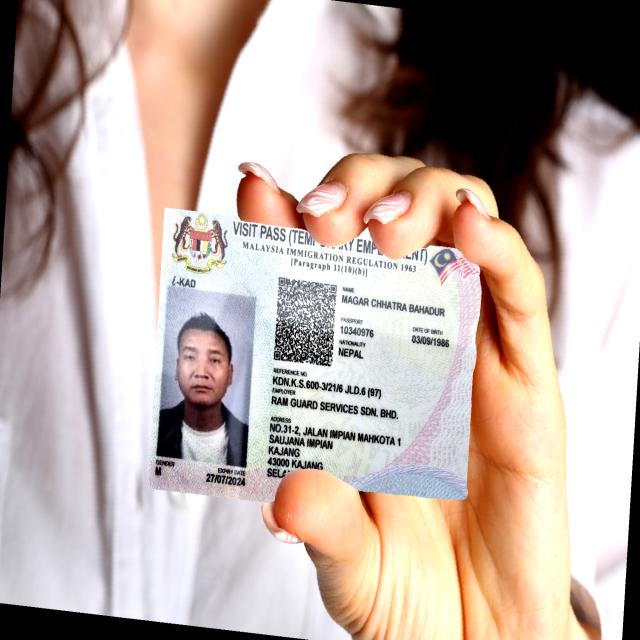ikad-temp: (147, 206, 482, 502)
